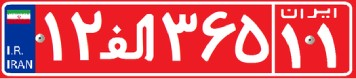character: (102, 9, 161, 68), (159, 8, 200, 68), (233, 9, 270, 69), (199, 9, 237, 67), (68, 7, 104, 66), (40, 6, 67, 69), (277, 21, 309, 73), (313, 20, 343, 72)
